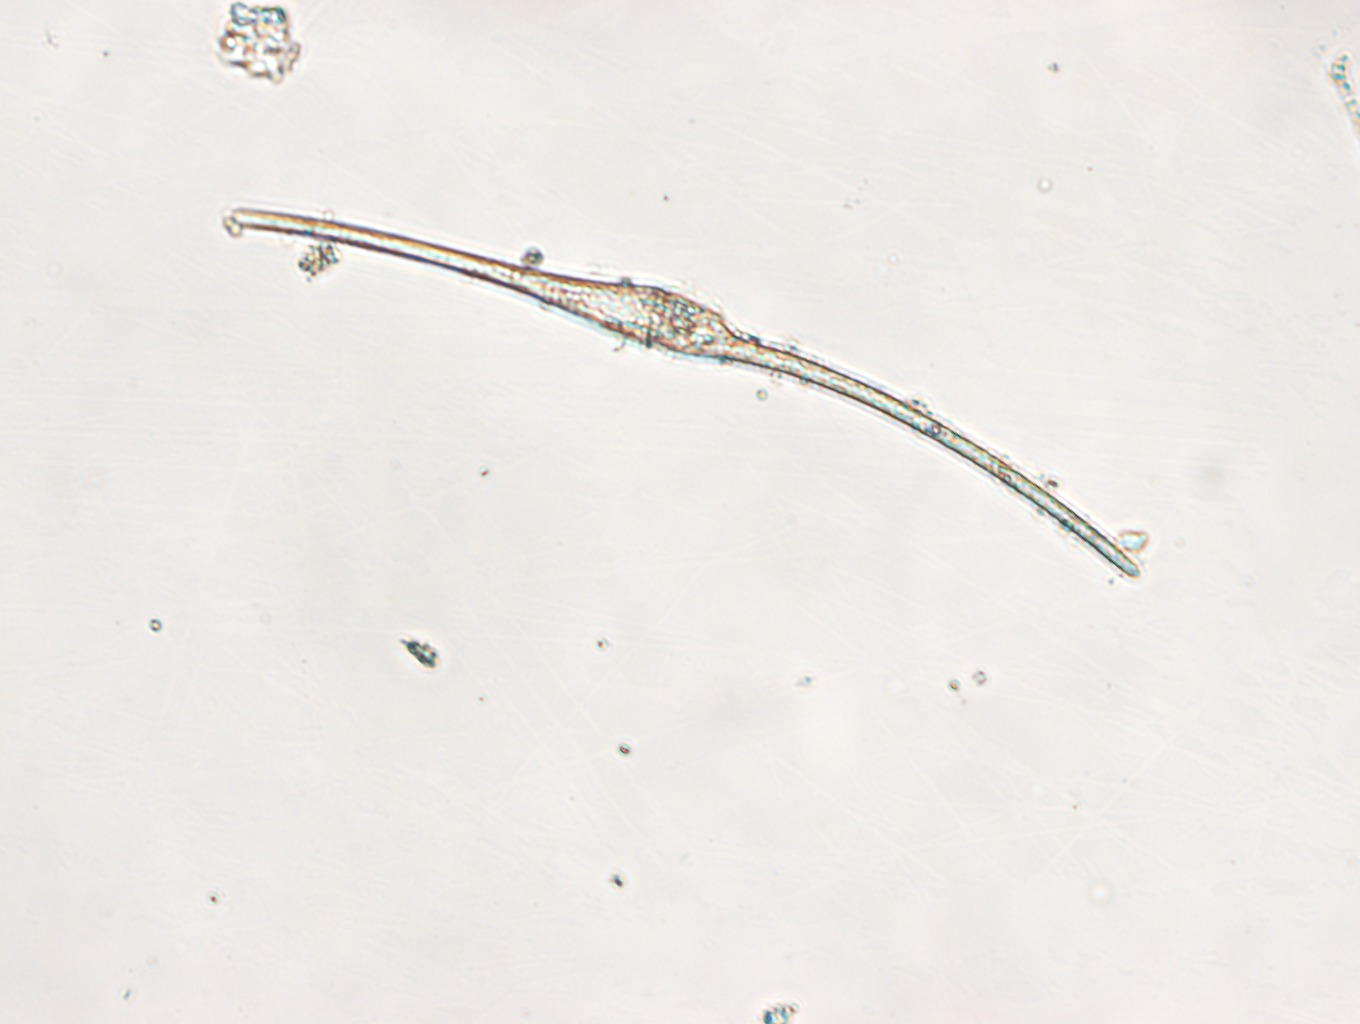ceratium fusus: (216, 205, 1143, 583)
